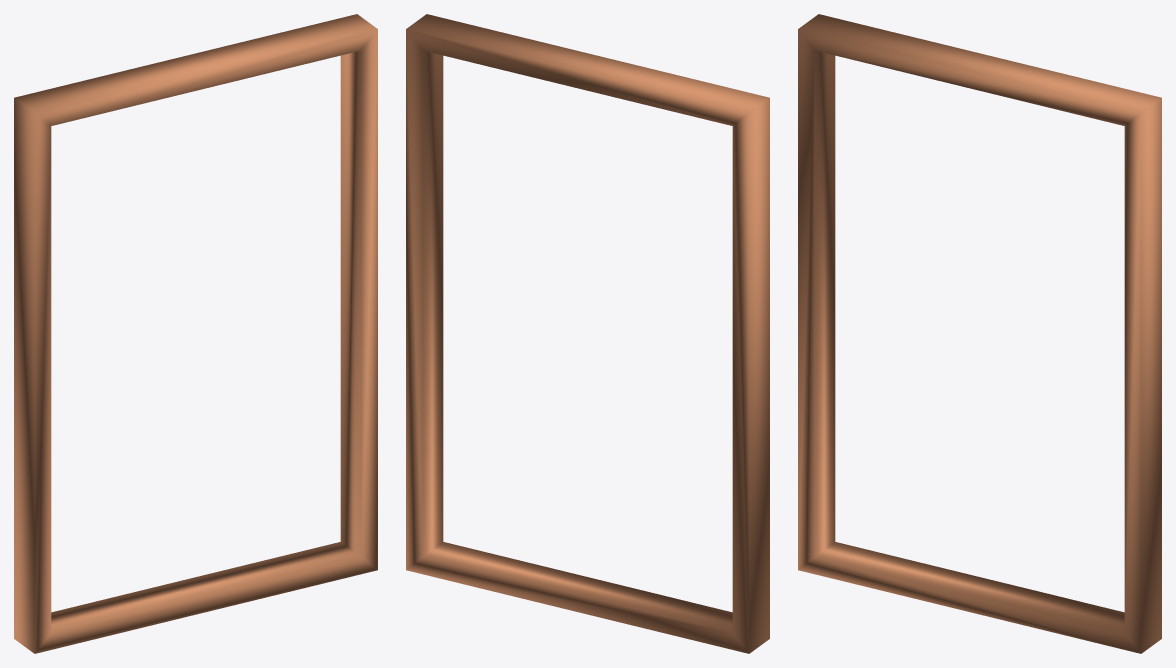
File: pit.obj
3 renders of one model, left to right at view 1: azimuth 30°, elevation 25°; view 2: azimuth 150°, elevation 25°; view 3: azimuth 330°, elevation 25°, orthographic.
Visible parts, largest first — view 1: cuttingBoard; view 2: cuttingBoard; view 3: cuttingBoard.
Boxes of the visible parts, x1=… form: cuttingBoard: x1=14, y1=14, x2=377, y2=653; cuttingBoard: x1=406, y1=14, x2=769, y2=653; cuttingBoard: x1=798, y1=14, x2=1161, y2=653.
Size of the model in its own units: 0.3552 by 0.5352 by 0.037.
